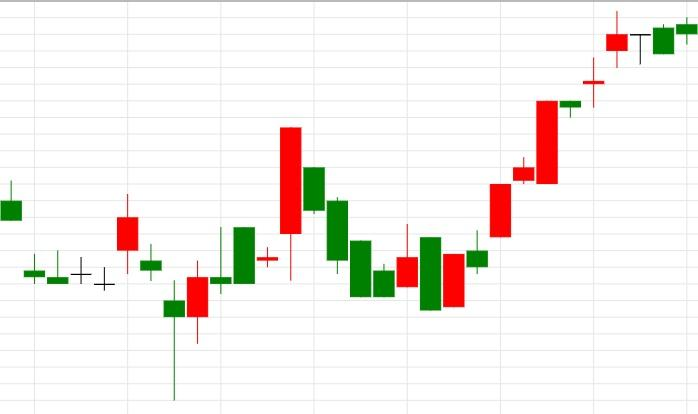evening_star_fall: (419, 10, 675, 311)
